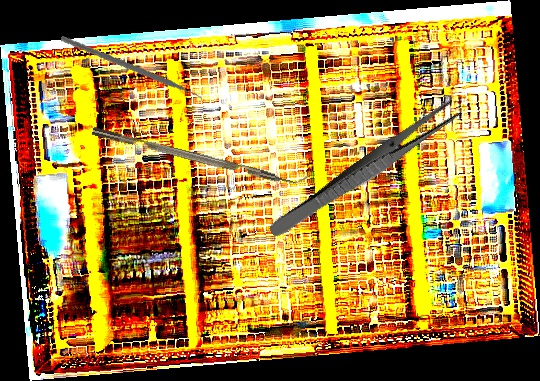Chopper: (91, 116, 310, 192), (60, 16, 204, 130)
Dressing Forceps: (266, 97, 463, 244)
